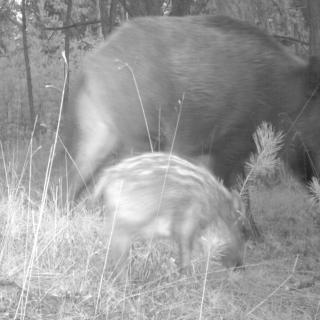Pig: (103, 145, 253, 286)
